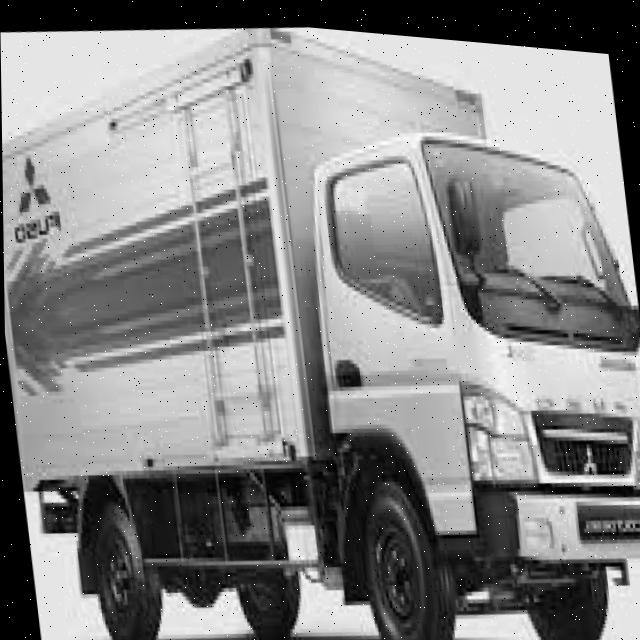truck: (266, 73, 640, 640)
